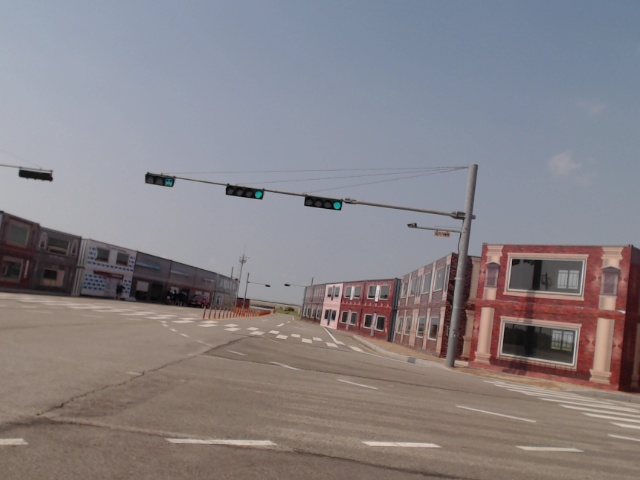straight_green_4: (304, 196, 343, 212), (228, 185, 266, 199)
